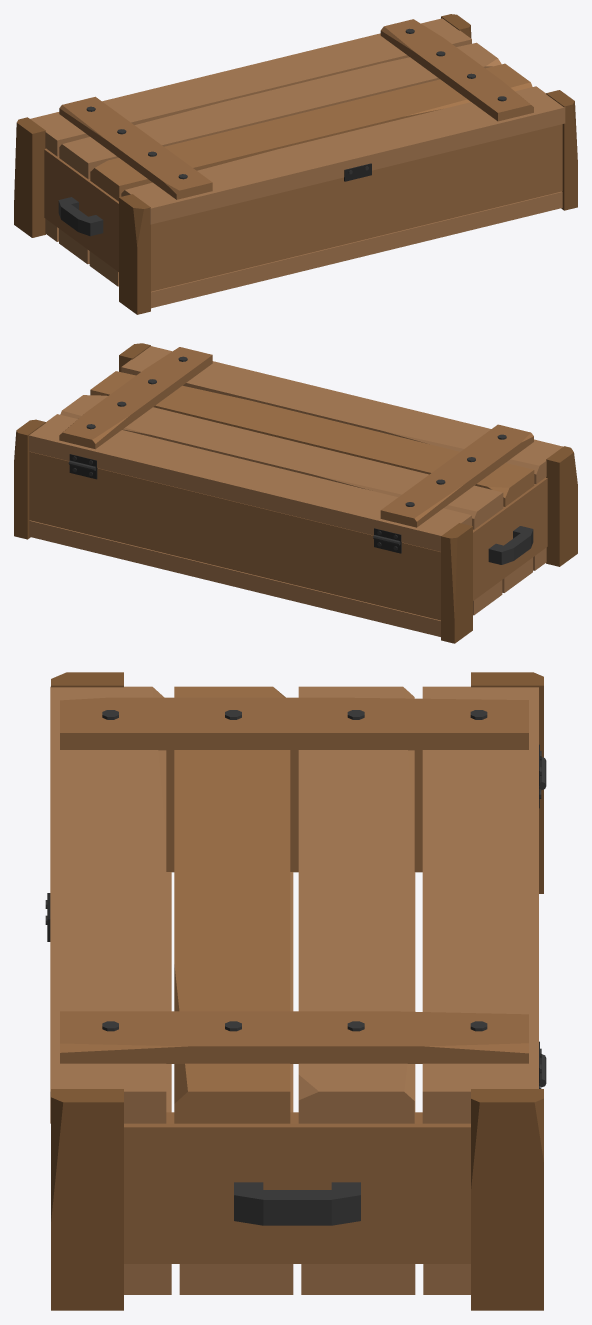
File: AmoBox_02.fbx
3 renders of one model, top to bottom at view 1: azimuth 30°, elevation 25°; view 2: azimuth 150°, elevation 25°; view 3: azimuth 270°, elevation 25°, orthographic. The views are drawn at different scales.
Parts seen in each view (by area): view 1: AmoBox_02_2, AmoBox_02; view 2: AmoBox_02_2, AmoBox_02; view 3: AmoBox_02_2, AmoBox_02.
Boxes of the visible parts, x1,y1,x2,y2 form: AmoBox_02_2: (30, 18, 565, 224); AmoBox_02: (14, 14, 577, 314); AmoBox_02_2: (29, 346, 562, 551); AmoBox_02: (14, 343, 577, 643); AmoBox_02_2: (45, 686, 541, 1123); AmoBox_02: (51, 672, 546, 1310).
Bounding box in the file's own units: 98.65 × 23.58 × 47.25.
